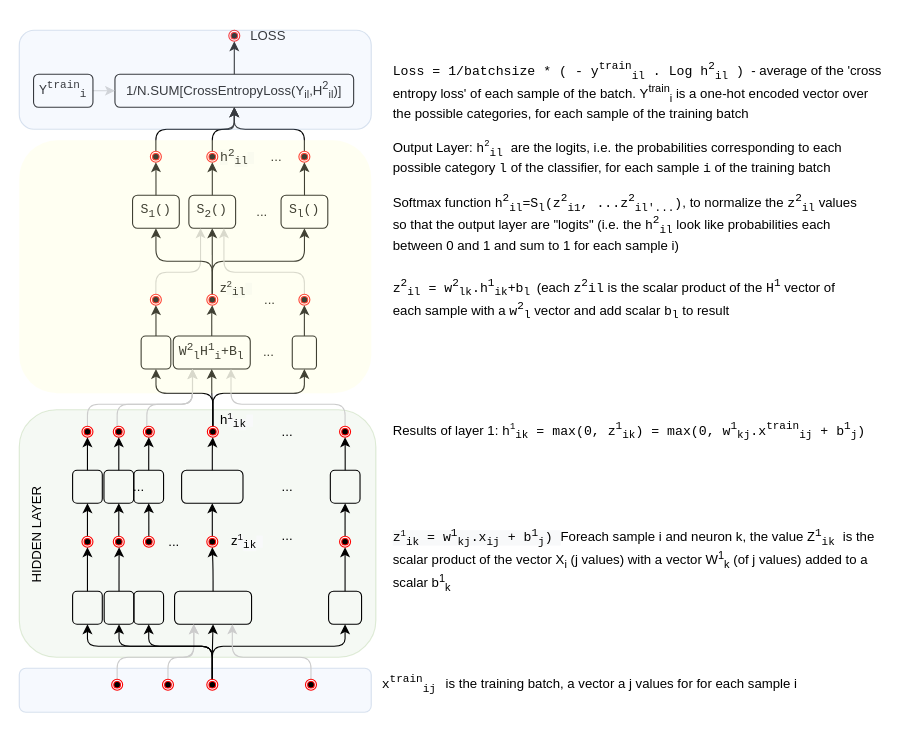
The diagram is 916 pixels wide and 732 high, and some of its shapes have lost their labels. Here are the shapes that lost their labels. From the top down, the box of each, then its label:
(19, 140, 371, 393): OUTPUT LAYER
(181, 469, 243, 503): RELU
(173, 590, 252, 624): W 1 k X 1 i +B 1 k
(18, 667, 371, 712): x train ij
